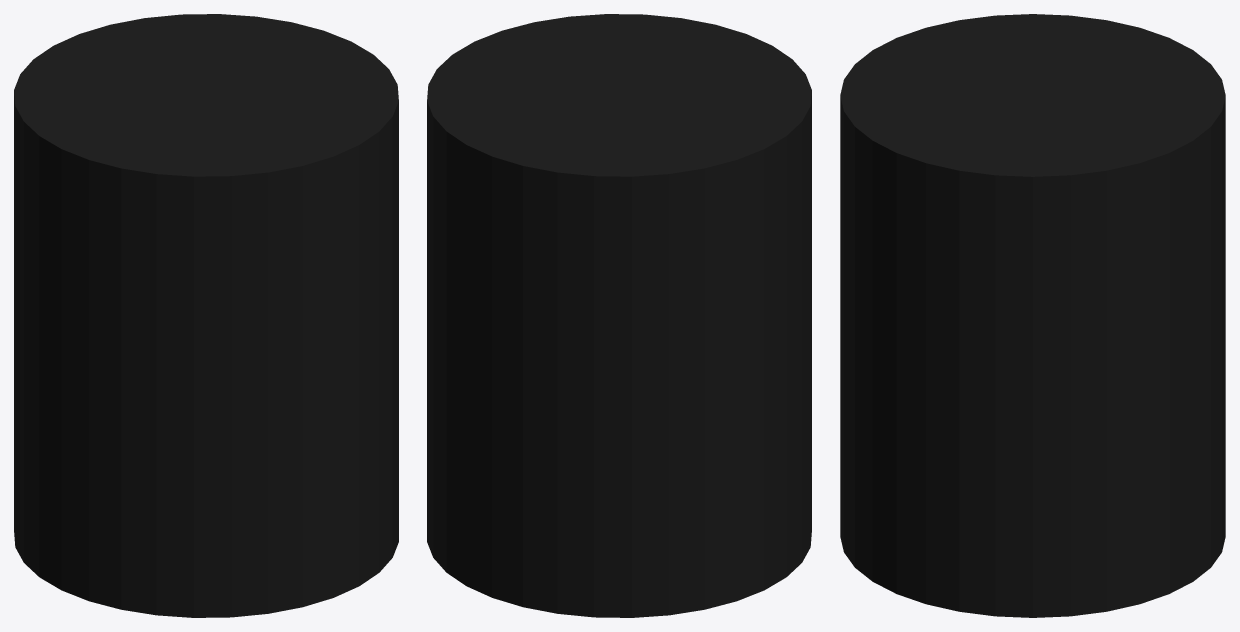
Rendered from Player_Center_Body.obj.
The picture shows the model from 3 angles, left to right: view 1: azimuth 30°, elevation 25°; view 2: azimuth 150°, elevation 25°; view 3: azimuth 270°, elevation 25°; orthographic projection.
Parts seen in each view (by area): view 1: 円柱; view 2: 円柱; view 3: 円柱.
Part boxes in pixels (x1,y1,x2,y2): 円柱: (14, 14, 398, 617); 円柱: (427, 14, 811, 617); 円柱: (840, 14, 1225, 617).
Bounding box in the file's own units: 0.8 × 1.01 × 0.8.
